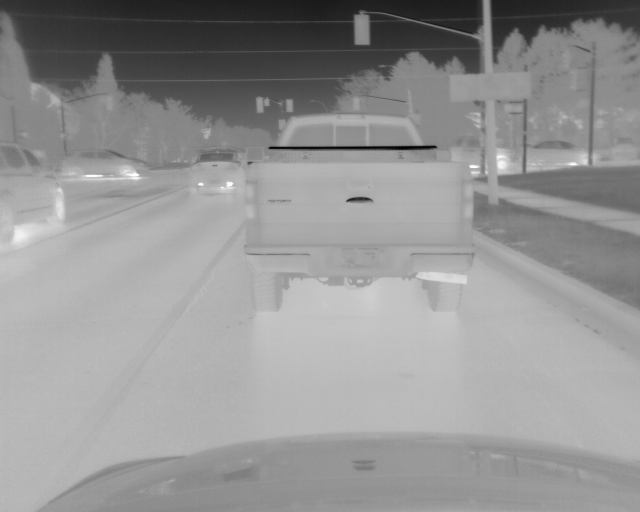car: (244, 113, 473, 313), (1, 142, 67, 243), (58, 147, 148, 181), (189, 145, 249, 194), (445, 137, 515, 174), (518, 137, 600, 167)
